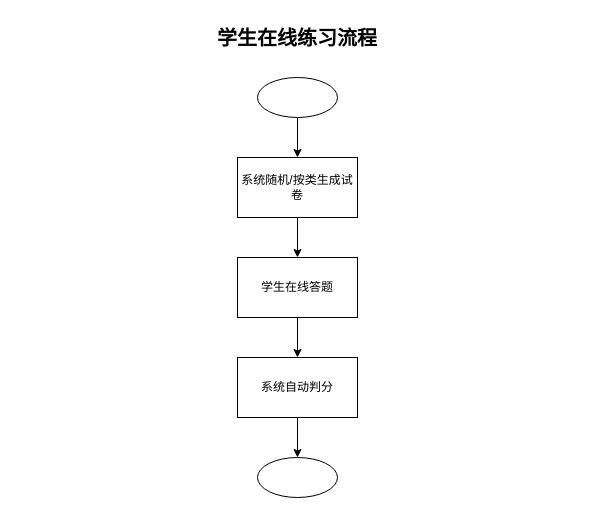
Some shapes in this 594 by 515 pixel diagram are drawn without their labels. The centre of each missing label's shape, as x and y in pixels:
学生进入题库练习: the point at 297,97
查看解析与得分: the point at 297,477
